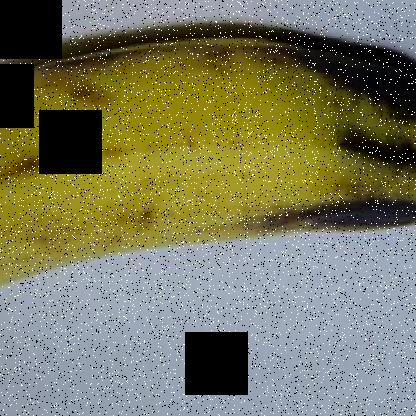ripe: (1, 27, 415, 309)
